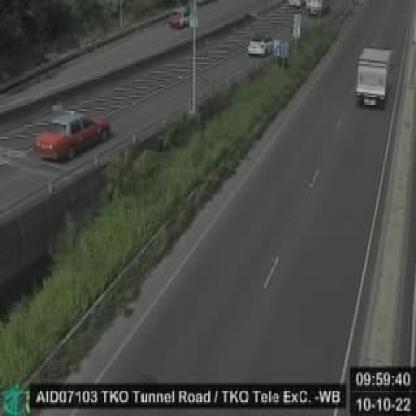Car: (34, 107, 112, 165), (246, 33, 275, 57), (167, 7, 190, 28)
Truck: (356, 43, 394, 108)
